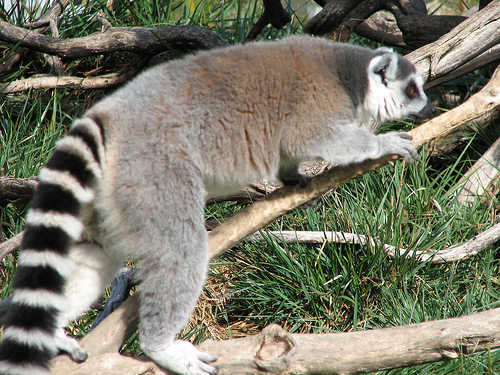cat: (0, 34, 432, 374)
